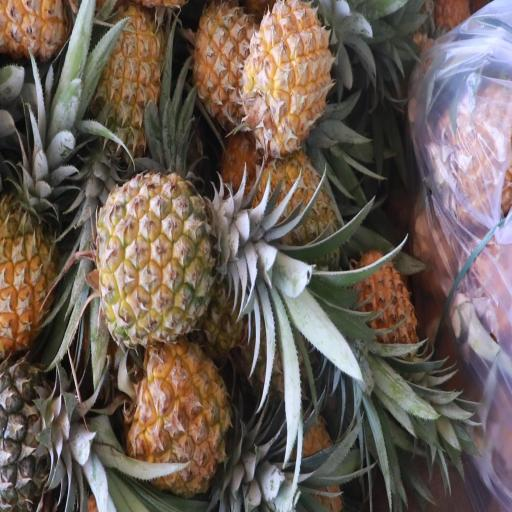------------------------------: (90, 158, 280, 327)
Pineapple - v8 v1: (113, 331, 273, 494), (0, 110, 73, 369), (241, 0, 354, 155), (88, 1, 164, 143), (190, 0, 255, 118)
